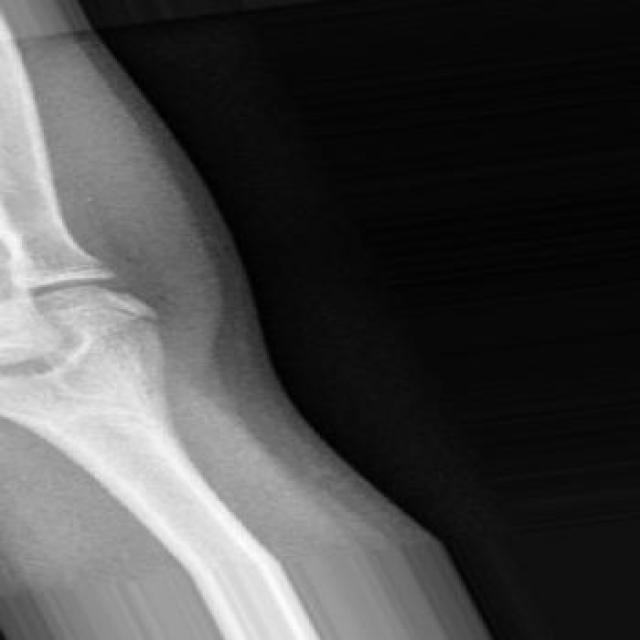Fracture: (85, 279, 180, 339)
